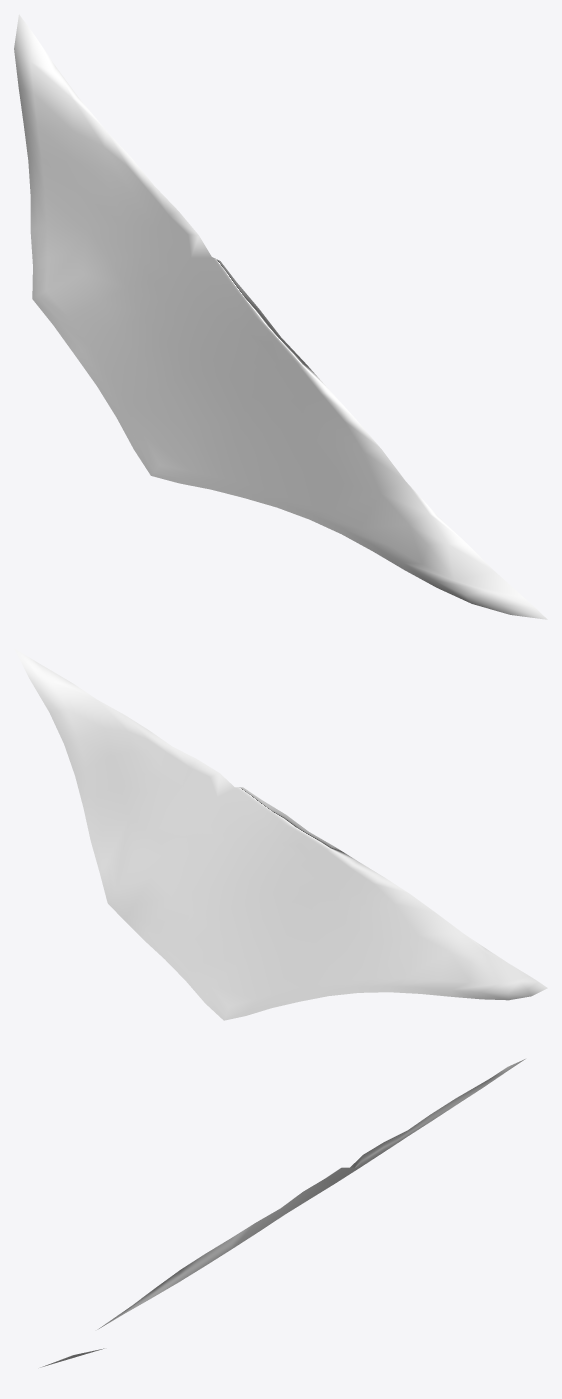
The model's file is Pants_Decor_Pocket_Left_V1.glb.
3 views of the same model, one above another, from view 1: azimuth 90°, elevation 25°; view 2: azimuth 150°, elevation 25°; view 3: azimuth 270°, elevation 25° (orthographic).
Visible parts, largest first — view 1: Pants_Decor_Pocket_Left.001; view 2: Pants_Decor_Pocket_Left.001; view 3: Pants_Decor_Pocket_Left.001.
Boxes of the visible parts, x1,y1,x2,y2 form: Pants_Decor_Pocket_Left.001: [14, 14, 547, 619]; Pants_Decor_Pocket_Left.001: [14, 648, 547, 1020]; Pants_Decor_Pocket_Left.001: [40, 1059, 525, 1367].
Bounding box in the file's own units: 0.055 × 0.0881 × 0.0906.
1 material, 1 textured.
